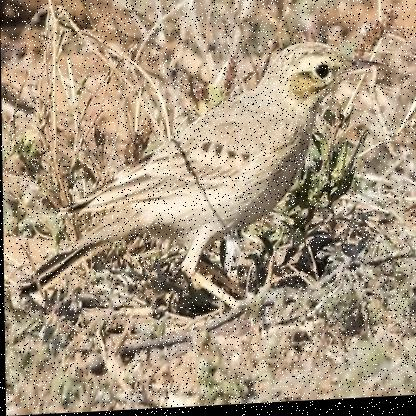Burung: (20, 39, 388, 302)
